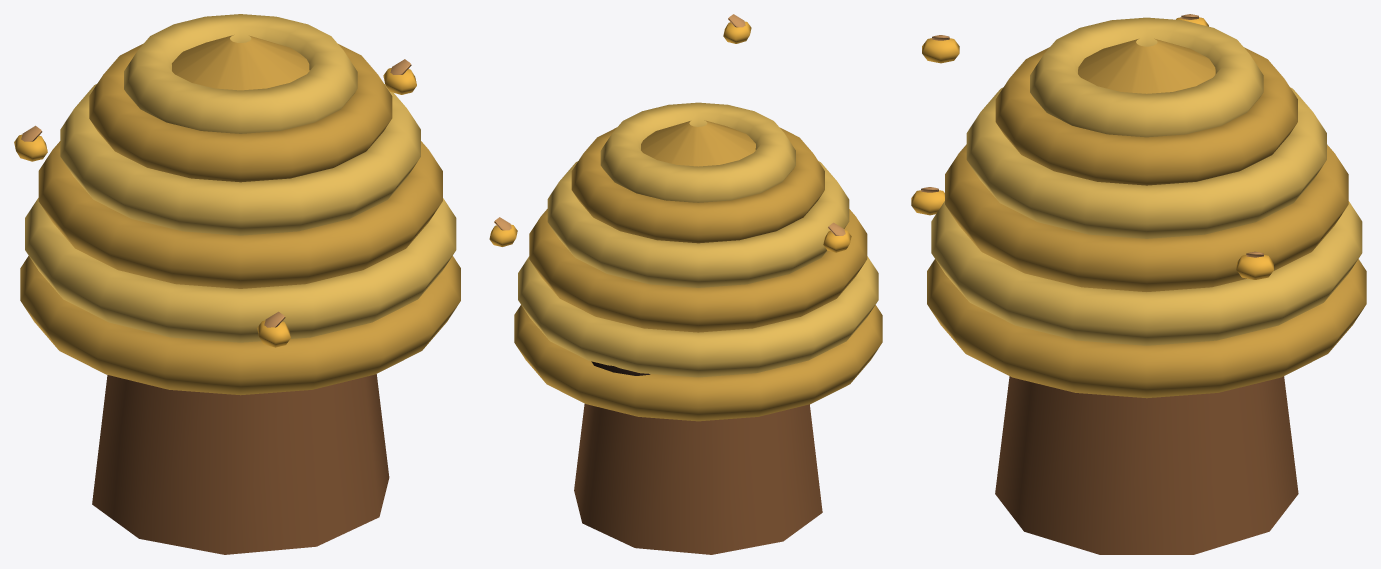
Rendered from Beehive.glb.
3 views of the same model, side by side, from view 1: azimuth 30°, elevation 25°; view 2: azimuth 150°, elevation 25°; view 3: azimuth 270°, elevation 25° (orthographic). The views are drawn at different scales.
Parts seen in each view (by area): view 1: Body, HoverBees; view 2: Body, HoverBees; view 3: Body, HoverBees.
Part boxes in pixels (<box>): Body: <box>20,14,460,554</box>; HoverBees: <box>14,59,416,347</box>; Body: <box>514,102,882,554</box>; HoverBees: <box>489,14,851,252</box>; Body: <box>927,17,1366,554</box>; HoverBees: <box>911,14,1273,279</box>.
Size of the model in its own units: 2.11 by 2.49 by 2.1.
Materials: 2 (2 with a texture image).
